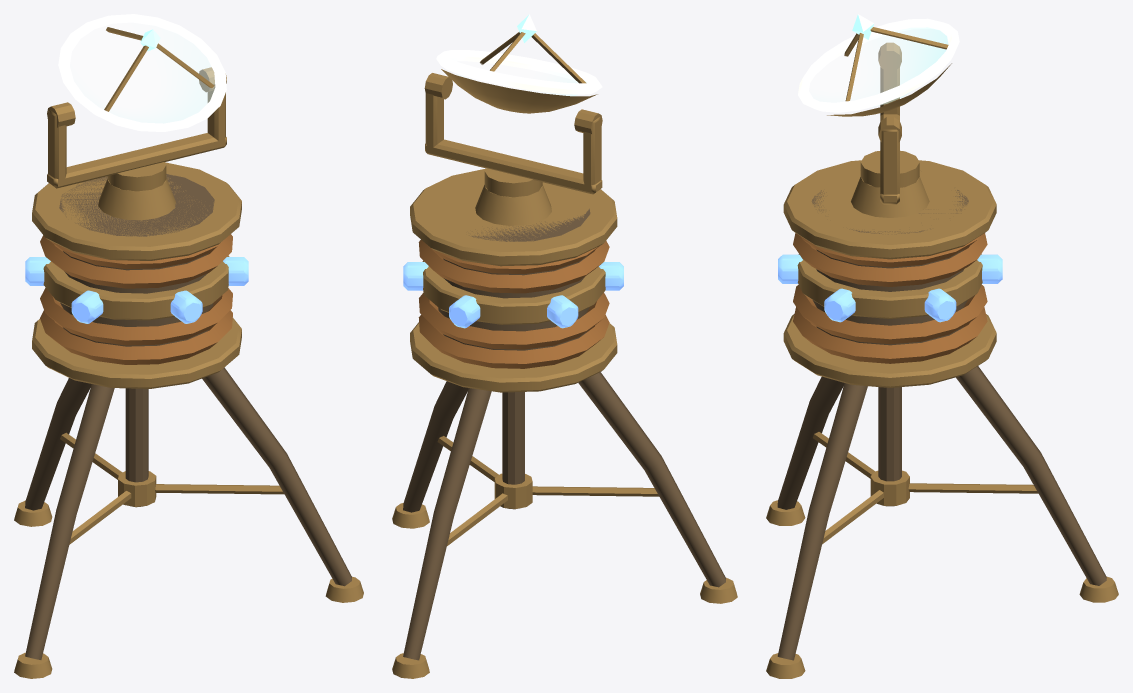
Rendered from jammer.glb.
3 renders of one model, left to right at view 1: azimuth 30°, elevation 25°; view 2: azimuth 150°, elevation 25°; view 3: azimuth 270°, elevation 25°, orthographic.
Parts seen in each view (by area): view 1: body_metal_brass_bright, body_metal_brass, body_metal_copper, yoke_role_glow_soft, yoke_metal_brass_bright, yoke_glow_band, body_role_luminous; view 2: body_metal_brass_bright, body_metal_brass, body_metal_copper, yoke_metal_brass_bright, yoke_glow_band, body_role_luminous, yoke_role_glow_soft; view 3: body_metal_brass_bright, body_metal_brass, body_metal_copper, yoke_role_glow_soft, yoke_metal_brass_bright, yoke_glow_band, body_role_luminous.
Part boxes in pixels (box(x1,y1,x2,y2)): body_metal_brass_bright: box(14, 162, 363, 678); body_metal_brass: box(25, 174, 351, 659); body_metal_copper: box(40, 234, 232, 364); yoke_role_glow_soft: box(70, 22, 215, 123); yoke_metal_brass_bright: box(47, 27, 226, 191); yoke_glow_band: box(58, 14, 226, 131); body_role_luminous: box(25, 257, 248, 323); body_metal_brass_bright: box(392, 168, 737, 678); body_metal_brass: box(403, 208, 725, 660); body_metal_copper: box(418, 240, 609, 368); yoke_metal_brass_bright: box(424, 32, 602, 197); yoke_glow_band: box(436, 50, 602, 94); body_role_luminous: box(403, 262, 623, 328); yoke_role_glow_soft: box(450, 57, 587, 96); body_metal_brass_bright: box(766, 160, 1118, 678); body_metal_brass: box(777, 190, 1106, 660); body_metal_copper: box(793, 233, 987, 363); yoke_role_glow_soft: box(809, 27, 948, 107); yoke_metal_brass_bright: box(827, 27, 951, 204); yoke_glow_band: box(798, 18, 959, 112); body_role_luminous: box(778, 254, 1002, 322).
Size of the model in its own units: 1.01 by 1.62 by 0.895.
